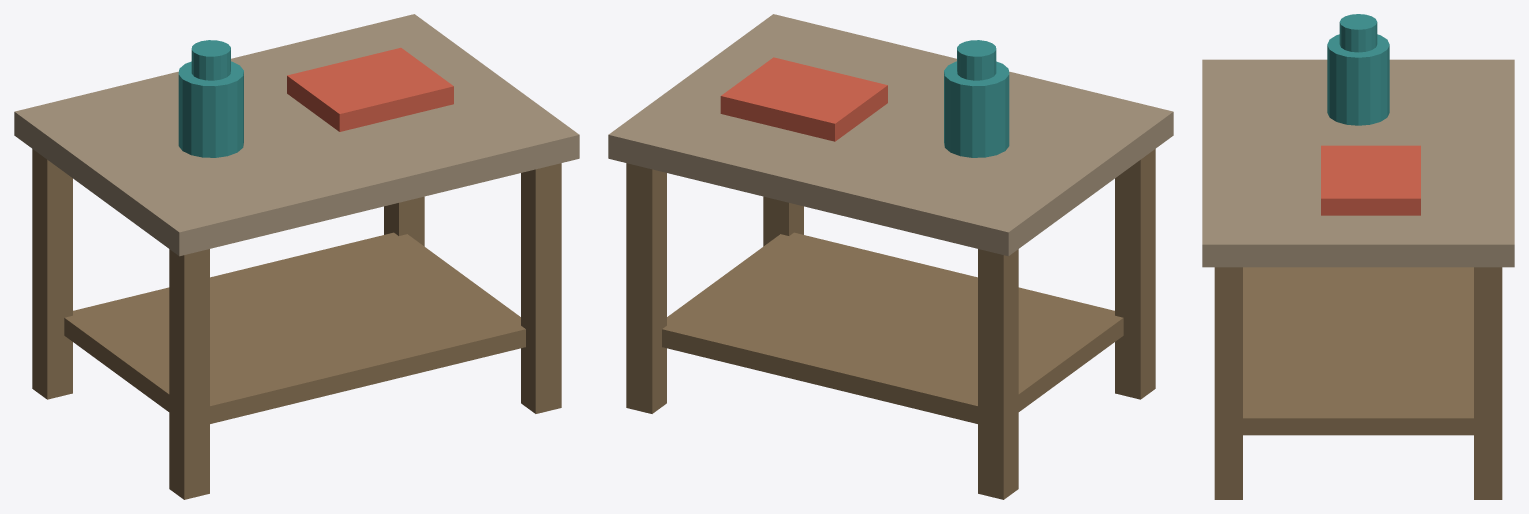
Rendered from side_table.glb.
The picture shows the model from 3 angles, left to right: view 1: azimuth 30°, elevation 25°; view 2: azimuth 150°, elevation 25°; view 3: azimuth 270°, elevation 25°; orthographic projection. The views are drawn at different scales.
Visible parts, largest first — view 1: side_table_Body; view 2: side_table_Body; view 3: side_table_Body.
Part boxes in pixels (<box>): side_table_Body: <box>14,14,579,499</box>; side_table_Body: <box>608,14,1173,499</box>; side_table_Body: <box>1202,14,1514,499</box>.
Size of the model in its own units: 0.7 by 0.62 by 0.5.
